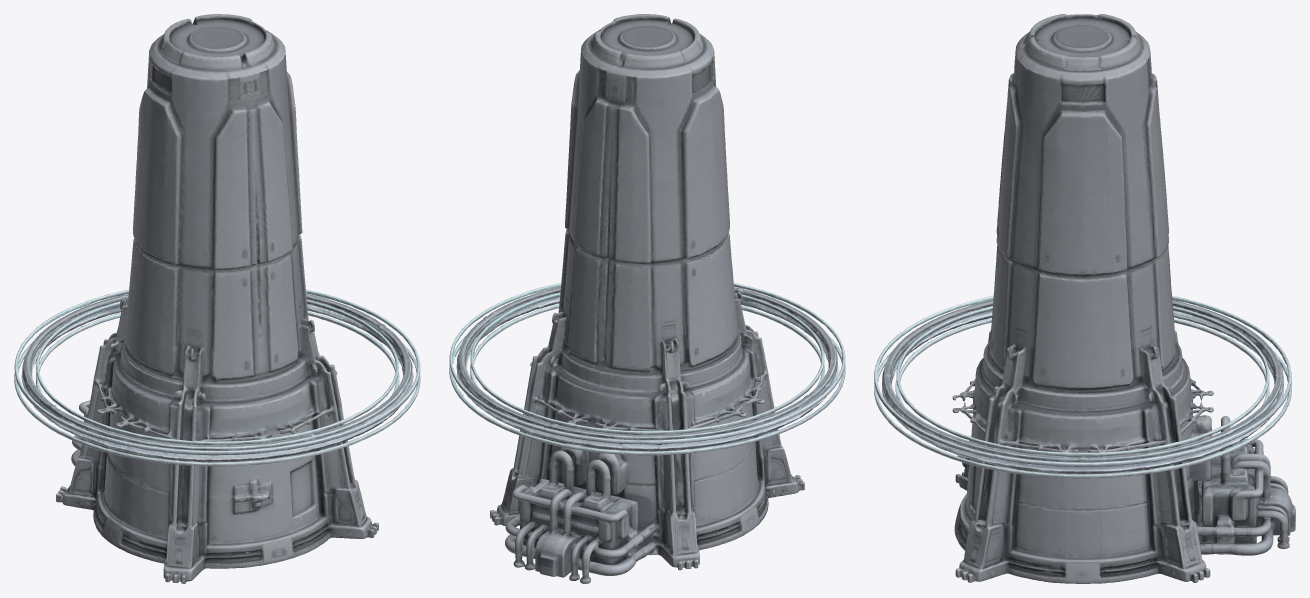
File: terraformer.glb
3 renders of one model, left to right at view 1: azimuth 30°, elevation 25°; view 2: azimuth 150°, elevation 25°; view 3: azimuth 270°, elevation 25°, orthographic. The views are drawn at different scales.
Size of the model in its own units: 1.44 by 1.89 by 1.46.
1 material, 1 textured.
